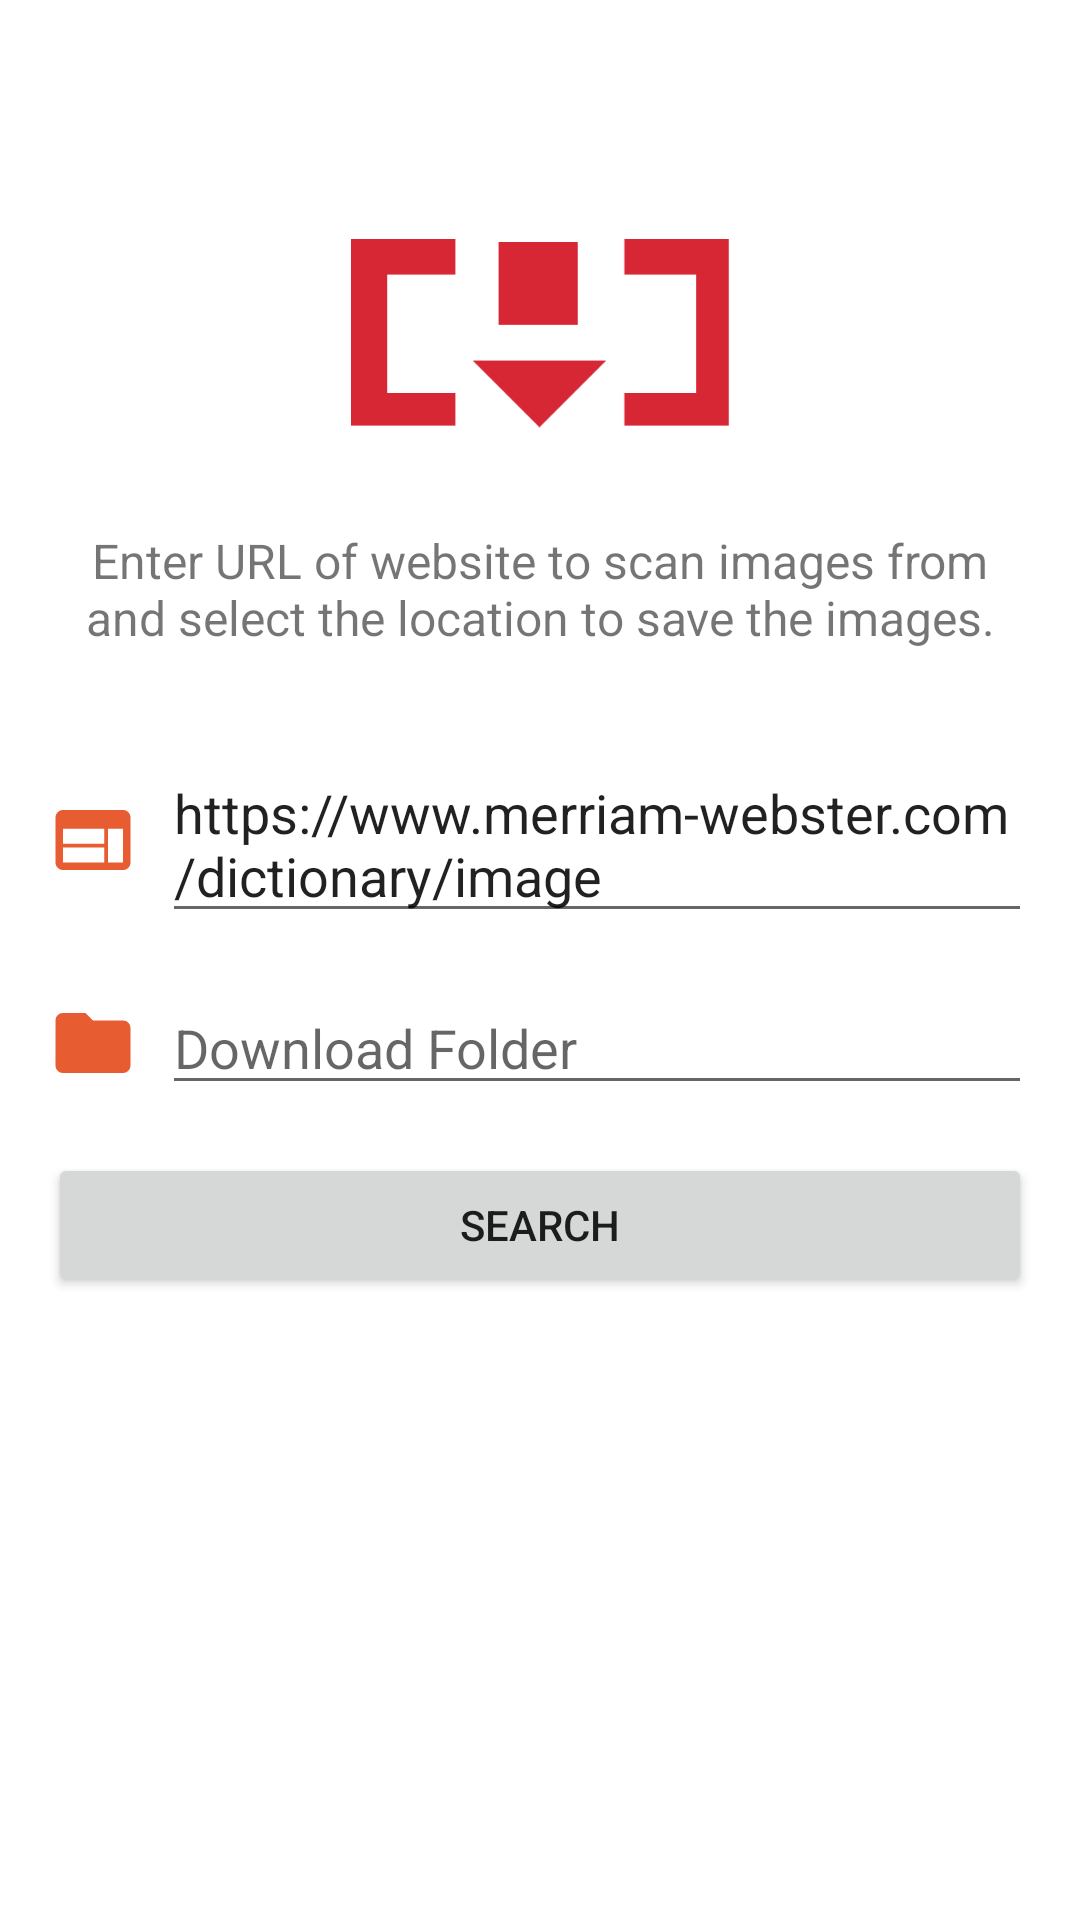

Icons on this 1080px×1920px Android screen, each with its box as (left=x1, top=y1, right=x2, bottom=y2):
web: (left=55, top=810, right=131, bottom=870)
